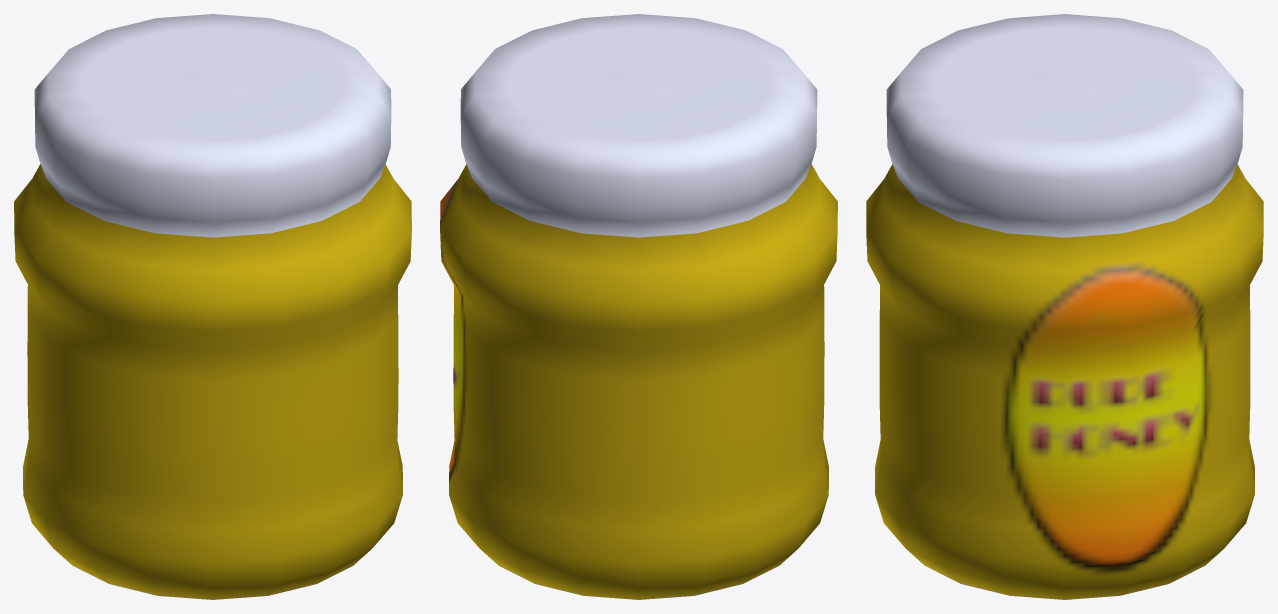
Rendered from Honey Glass Container.fbx.
3 views of the same model, side by side, from view 1: azimuth 30°, elevation 25°; view 2: azimuth 150°, elevation 25°; view 3: azimuth 270°, elevation 25° (orthographic).
Parts seen in each view (by area): view 1: Honey_Glass_Container; view 2: Honey_Glass_Container; view 3: Honey_Glass_Container.
Boxes of the visible parts, x1,y1,x2,y2 form: Honey_Glass_Container: [14, 14, 411, 599]; Honey_Glass_Container: [440, 14, 837, 599]; Honey_Glass_Container: [866, 14, 1263, 599].
Size of the model in its own units: 11.29 by 14.51 by 11.11.
1 material, 1 textured.
